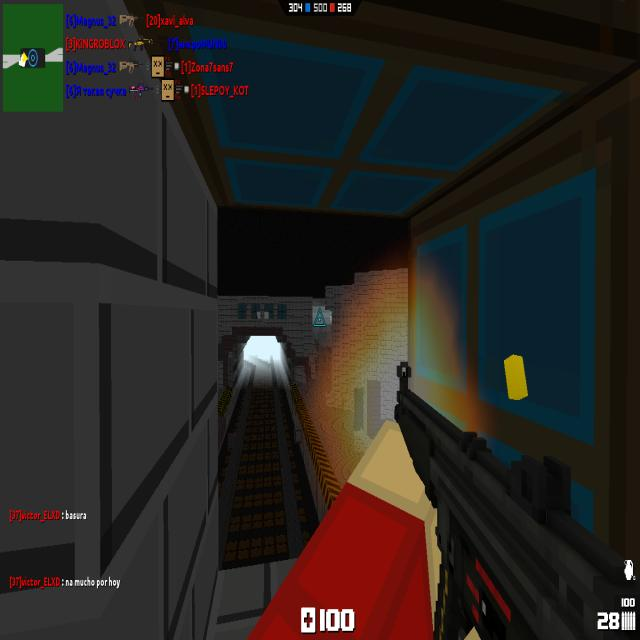enemy: (330, 310, 332, 325)
